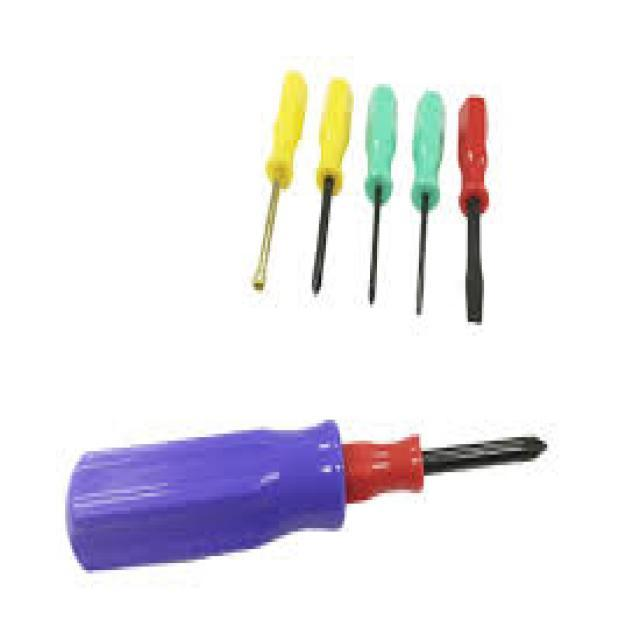screwdriver: (64, 412, 555, 578), (248, 67, 316, 293), (307, 78, 356, 300), (405, 80, 447, 318), (454, 89, 491, 331), (362, 82, 399, 310)
